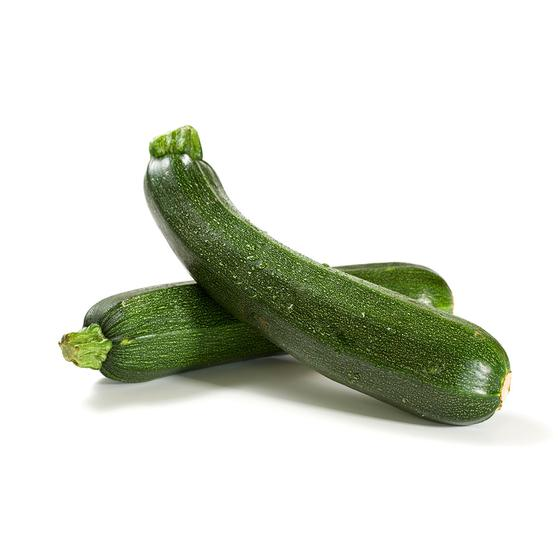zucchini: (144, 124, 511, 429)
